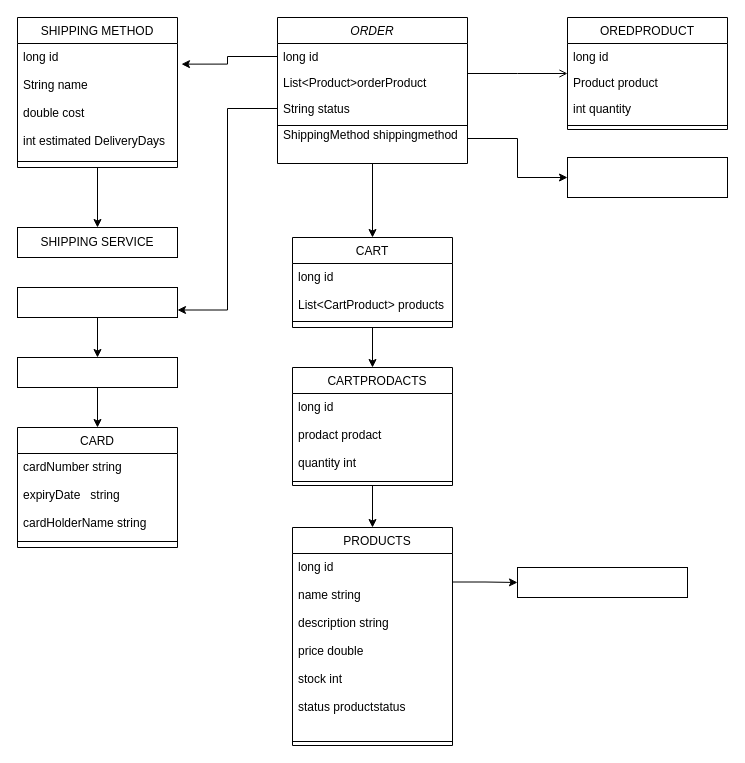
Some shapes in this 745 by 763 pixel diagram are drawn without their labels. Here are the shapes that lost their labels. From the top down, the centre of each, then its label:
(x=647, y=177): ORDERSERVICE
(x=97, y=302): PAYMENT METHOD
(x=97, y=372): PAYMENT SERVICE
(x=602, y=582): PRODUCTS STATUS
